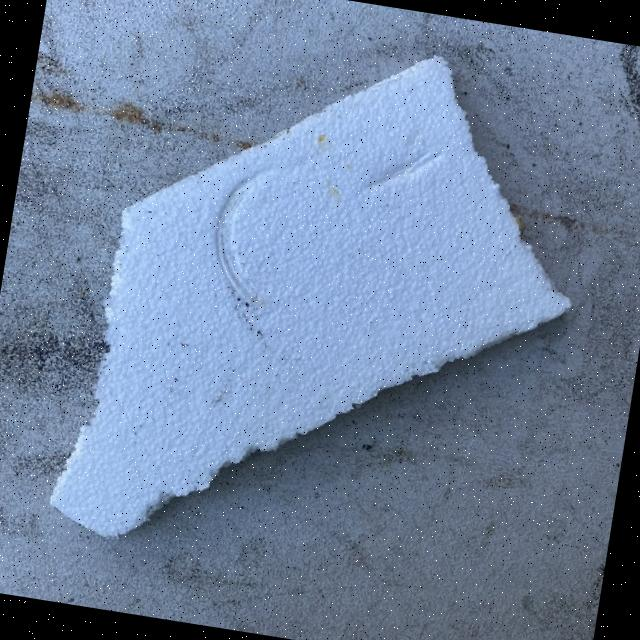styrofoam: (43, 4, 606, 604)
